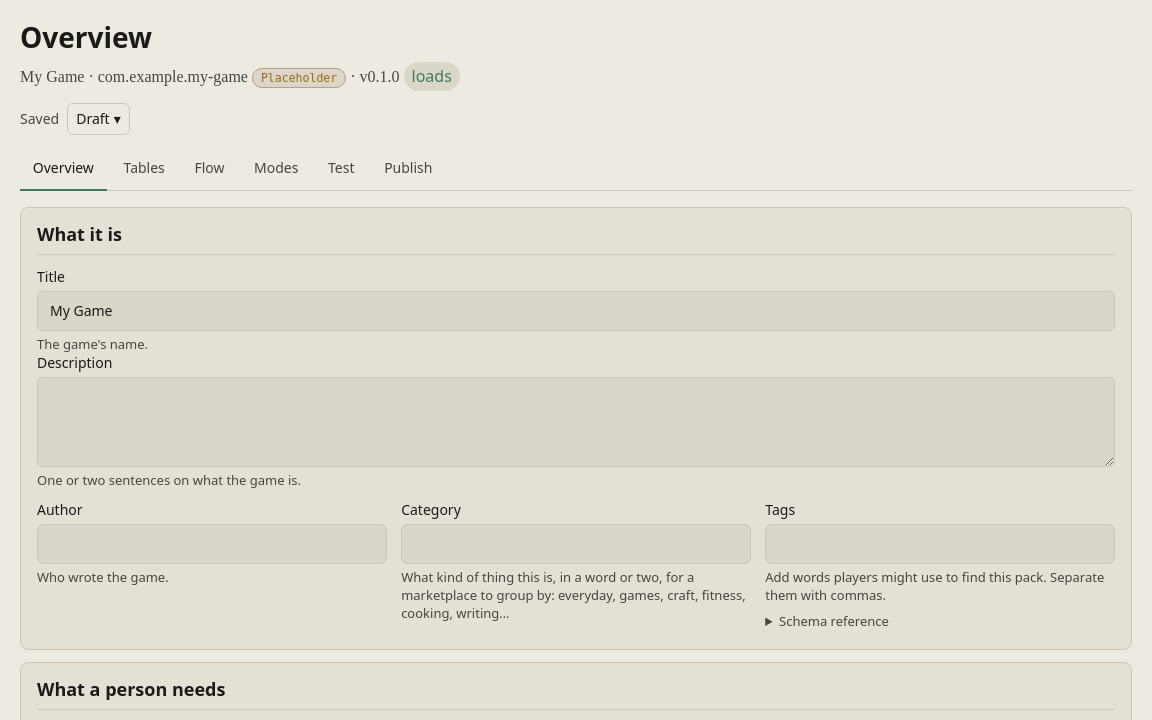
Scenario: which pack the Designer opens on › hands the pack over from Publish, not from the header
The image size is (1152, 720).
Check: the text "Download" is not shown
Click the button with class "designNavItem" showing "Publish": (408, 169) [371, 147, 445, 191]
(page scrolled)
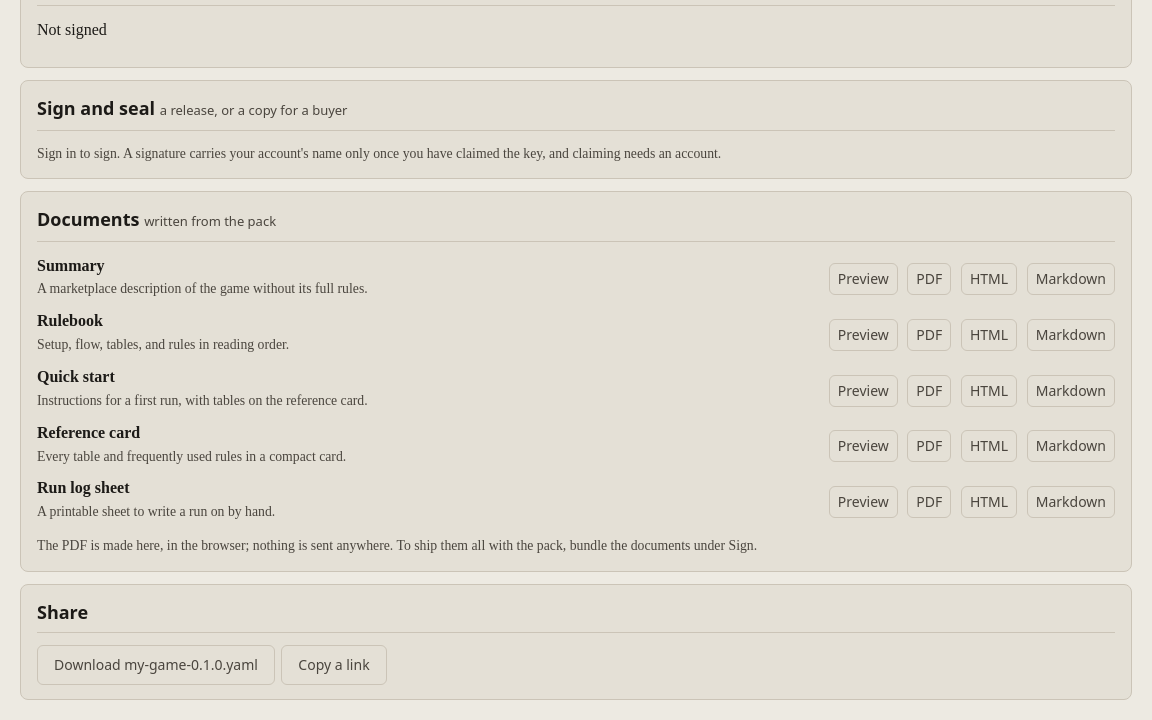
Check: the text "Download" is shown, box [37, 644, 275, 684]
Check: the button "Copy a link" is shown, box [281, 644, 387, 684]
